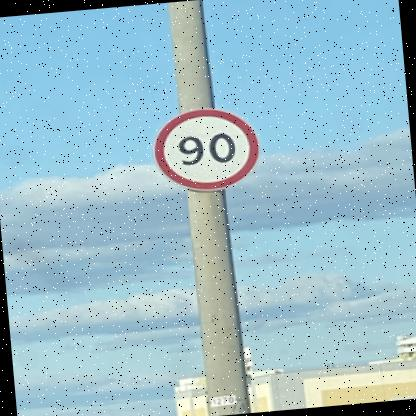speedlimit: (149, 103, 260, 193)
